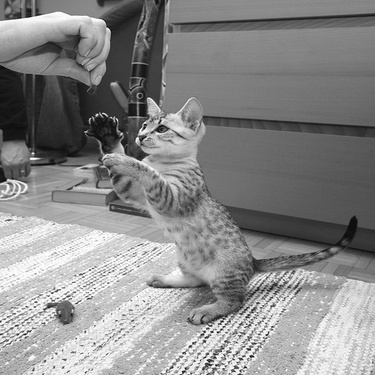cat: (95, 85, 361, 325)
